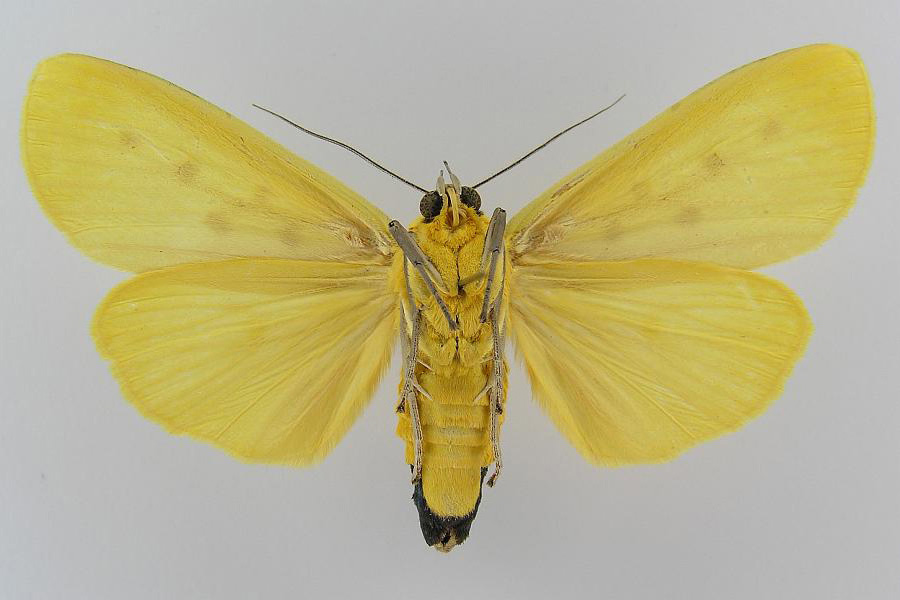Agape chloropyga: (18, 38, 878, 559)
moth: (20, 40, 880, 561)
